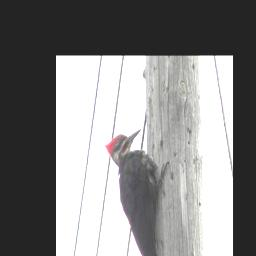Woodpecker: (103, 126, 170, 256)
